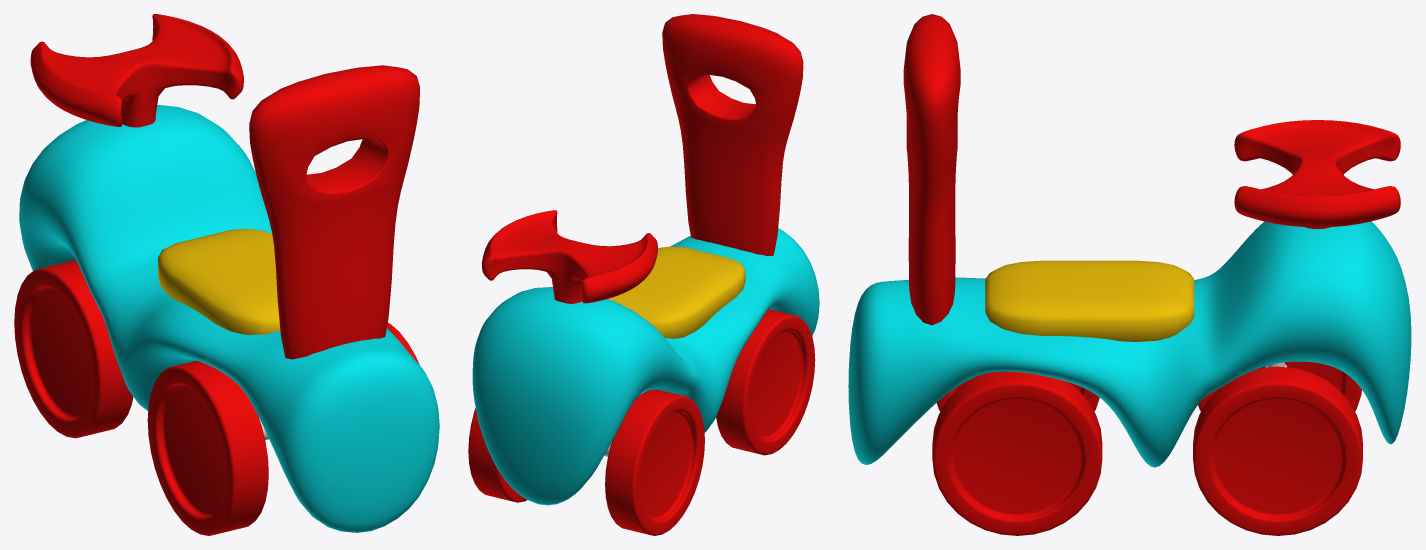
The model's file is toycarV1.fbx.
The picture shows the model from 3 angles, left to right: view 1: azimuth 30°, elevation 25°; view 2: azimuth 150°, elevation 25°; view 3: azimuth 270°, elevation 25°; orthographic projection. The views are drawn at different scales.
Parts seen in each view (by area): view 1: Base, Back, Wheel, Steering_wheel, seat; view 2: Base, Back, Wheel, Steering_wheel, seat; view 3: Base, Wheel, seat, Back, Steering_wheel.
Boxes of the visible parts, x1,y1,x2,y2 form: Base: (19, 105, 439, 532); Back: (249, 65, 419, 359); Wheel: (14, 260, 419, 535); Steering_wheel: (30, 14, 243, 127); seat: (158, 228, 280, 334); Base: (472, 228, 819, 505); Back: (662, 14, 803, 256); Wheel: (468, 309, 815, 535); Steering_wheel: (481, 210, 657, 303); seat: (608, 246, 745, 338); Base: (848, 221, 1411, 467); Wheel: (932, 361, 1362, 535); seat: (985, 260, 1194, 342); Back: (903, 14, 960, 325); Steering_wheel: (1234, 120, 1400, 229).
Size of the model in its own units: 19.67 by 42.94 by 48.56.
